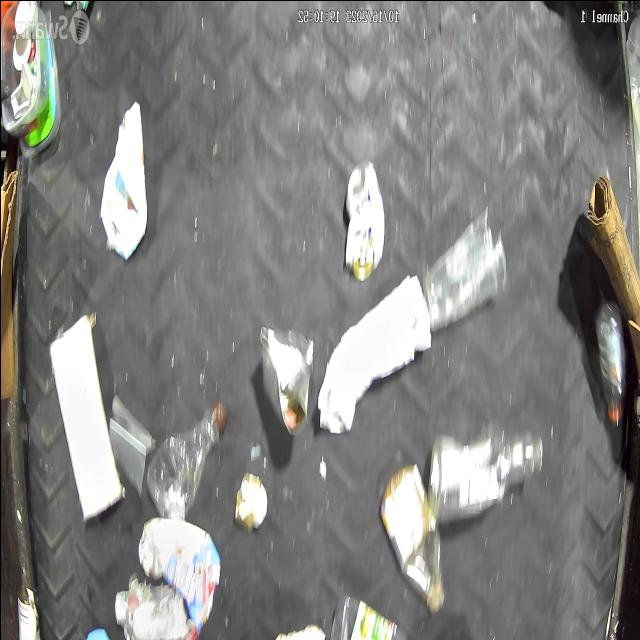can: (256, 320, 314, 436), (342, 156, 386, 284), (15, 582, 38, 640)
plastic_bottle: (426, 416, 544, 528), (378, 459, 447, 613), (144, 397, 228, 519), (592, 297, 629, 423)
